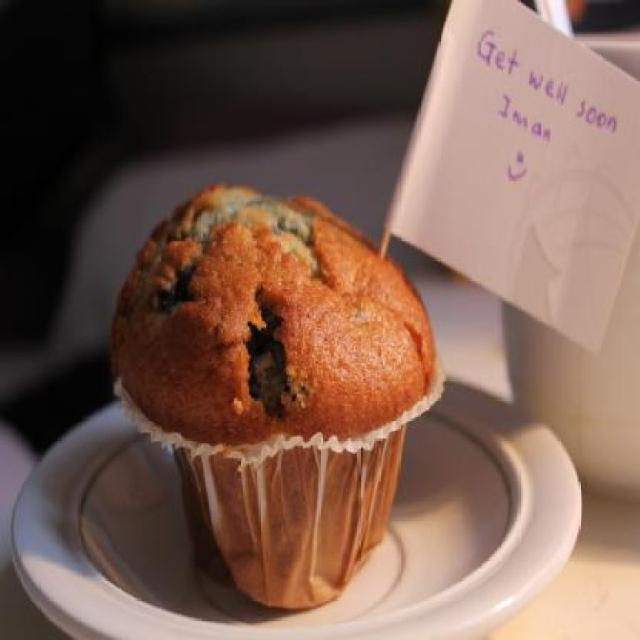Muffin: (107, 182, 447, 612)
